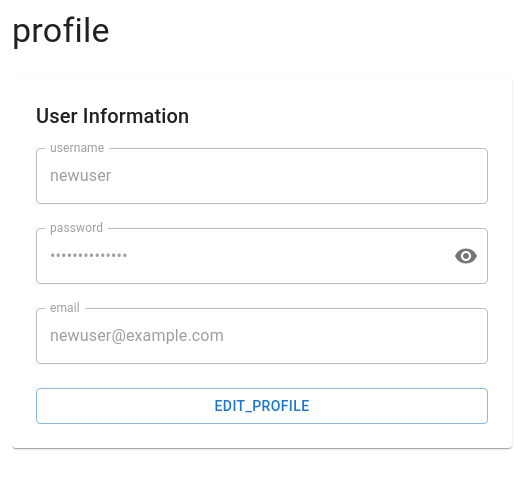
it: Profile Component › validates email input
This screenshot has width=530, height=490.
Click "Edit Profile" button
Click the button "edit_profile" at (262, 406), box [36, 388, 488, 424]
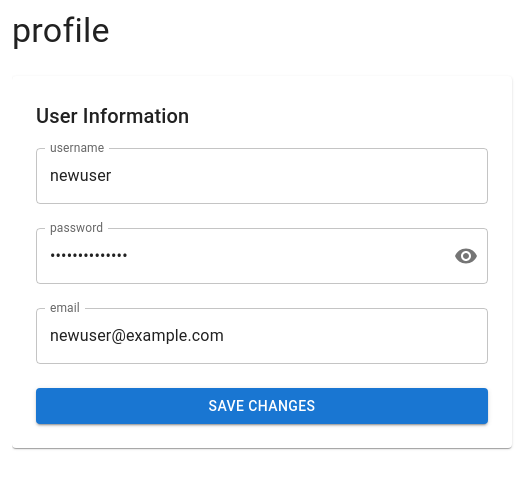
Enter an invalid email
Replace the text in the field labelled "email" with "invalid-email" at (262, 336), box [36, 308, 488, 364]
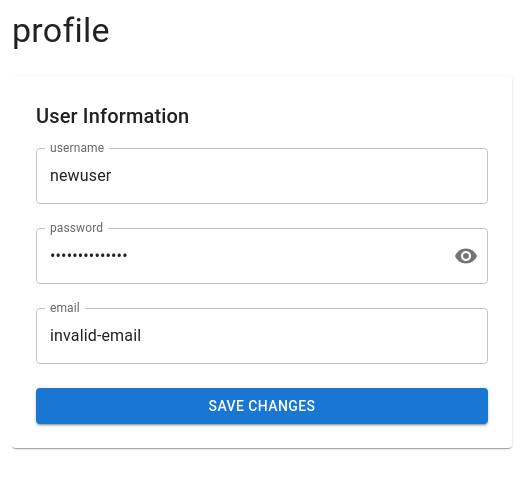
Click "Save Changes" button
Click the button "Save Changes" at (262, 406), box [36, 388, 488, 424]
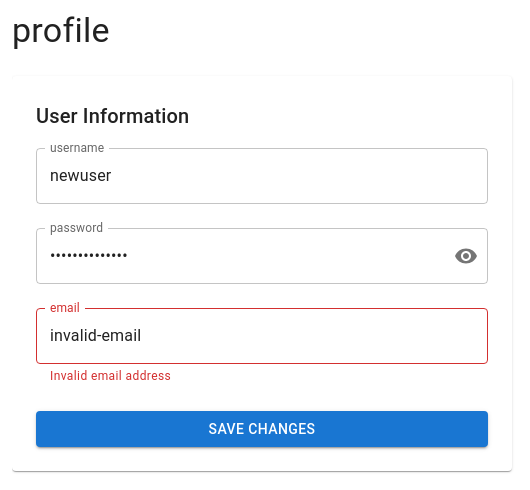
expect the text "Invalid email address" is shown: met, box [50, 369, 171, 383]
